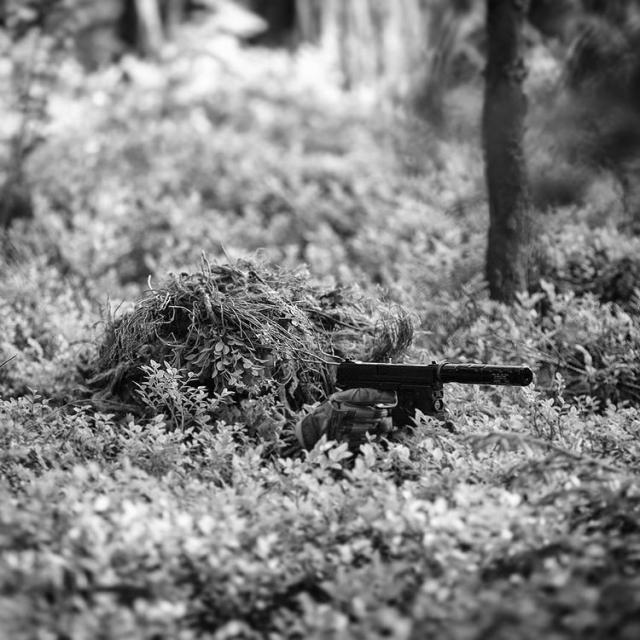Camouflage: (53, 246, 534, 460)
